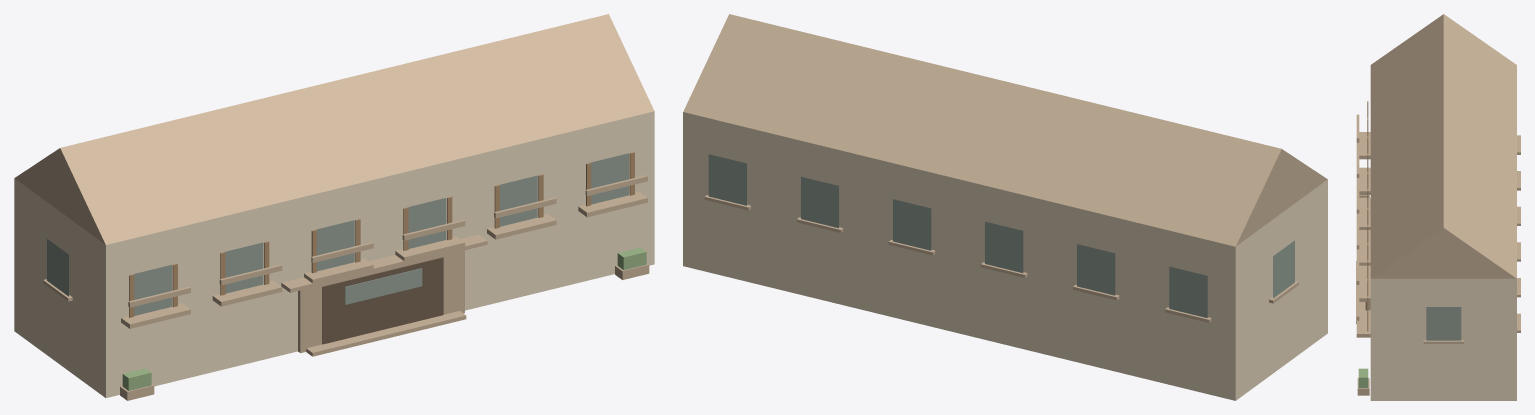
Rendered from residential_3x1_a.glb.
3 renders of one model, left to right at view 1: azimuth 30°, elevation 25°; view 2: azimuth 150°, elevation 25°; view 3: azimuth 270°, elevation 25°, orthographic. The views are drawn at different scales.
Parts seen in each view (by area): view 1: residential_3x1_a_0; view 2: residential_3x1_a_0; view 3: residential_3x1_a_0.
Boxes of the visible parts, <box> form: residential_3x1_a_0: <box>14,14,654,400</box>; residential_3x1_a_0: <box>683,14,1327,400</box>; residential_3x1_a_0: <box>1356,14,1520,400</box>.
Size of the model in its own units: 22.86 by 8.5 by 7.33.
